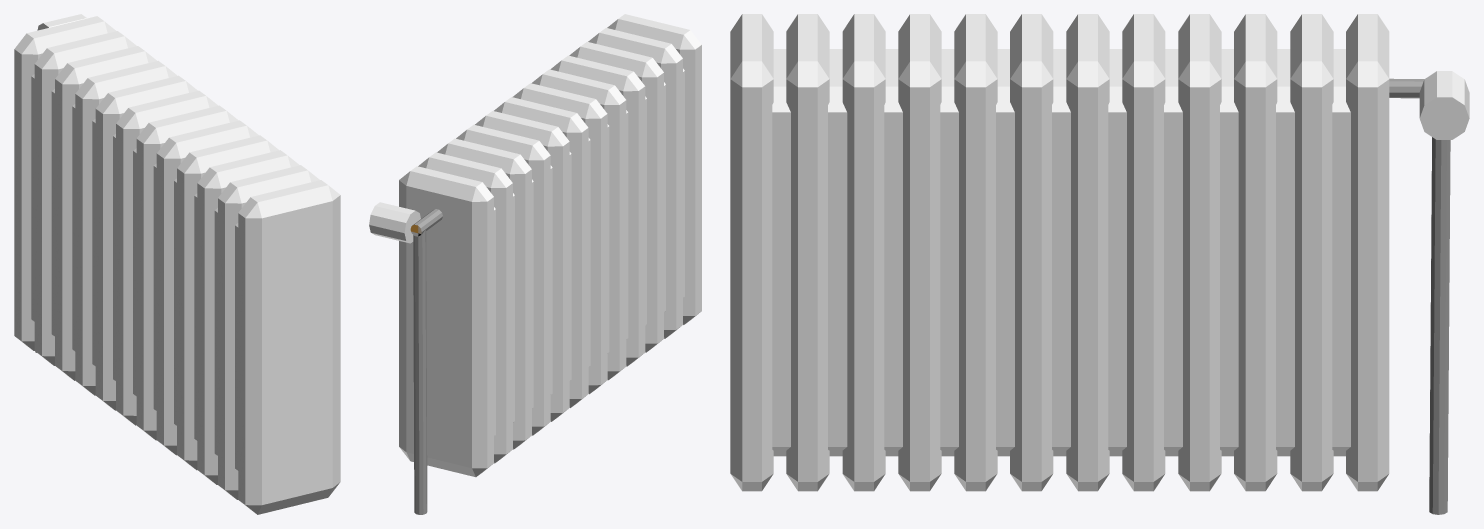
File: Radiator.fbx
3 renders of one model, left to right at view 1: azimuth 30°, elevation 25°; view 2: azimuth 150°, elevation 25°; view 3: azimuth 270°, elevation 25°, orthographic. The views are drawn at different scales.
Parts seen in each view (by area): view 1: Heater; view 2: Heater; view 3: Heater.
Part boxes in pixels (bbox=[...]): Heater: bbox=[14, 14, 340, 514]; Heater: bbox=[369, 14, 701, 514]; Heater: bbox=[730, 14, 1469, 514].
Bounding box in the file's own units: 63.78 × 220 × 312.
